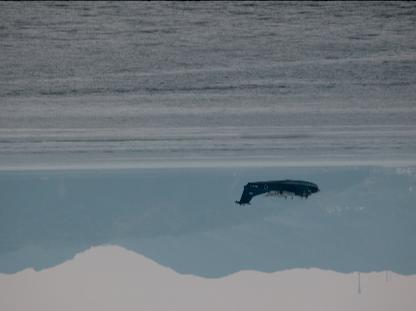Tu95: (232, 179, 320, 205)
